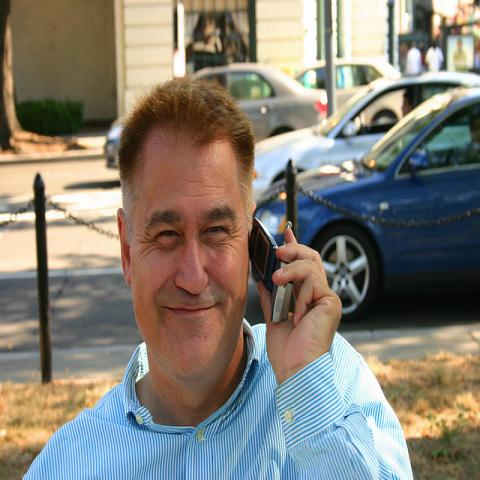car: (253, 85, 480, 322), (250, 68, 480, 198), (191, 60, 326, 140), (297, 55, 399, 112)
